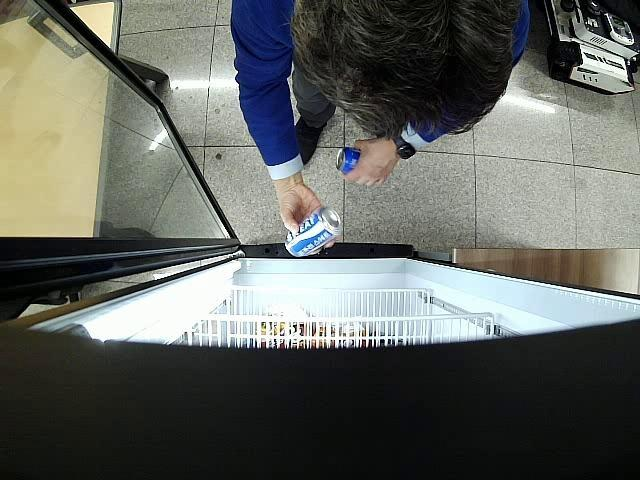13_pocariSweat: (286, 208, 342, 256), (336, 146, 361, 174)
